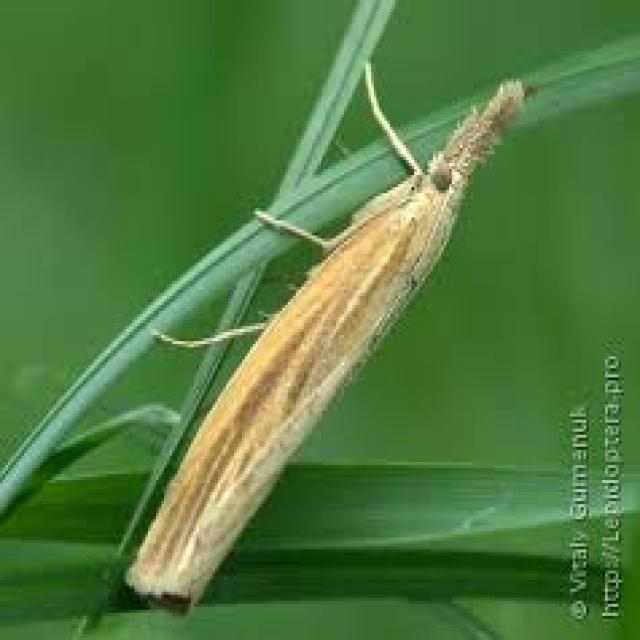yellow-stem-borer: (120, 56, 542, 622)
